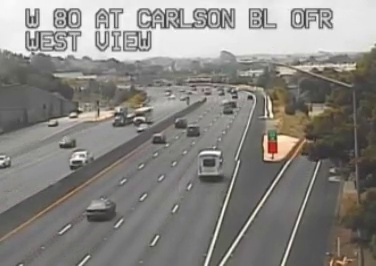bus: (197, 150, 222, 177)
car: (86, 200, 115, 219), (186, 125, 199, 137), (152, 133, 164, 143)
